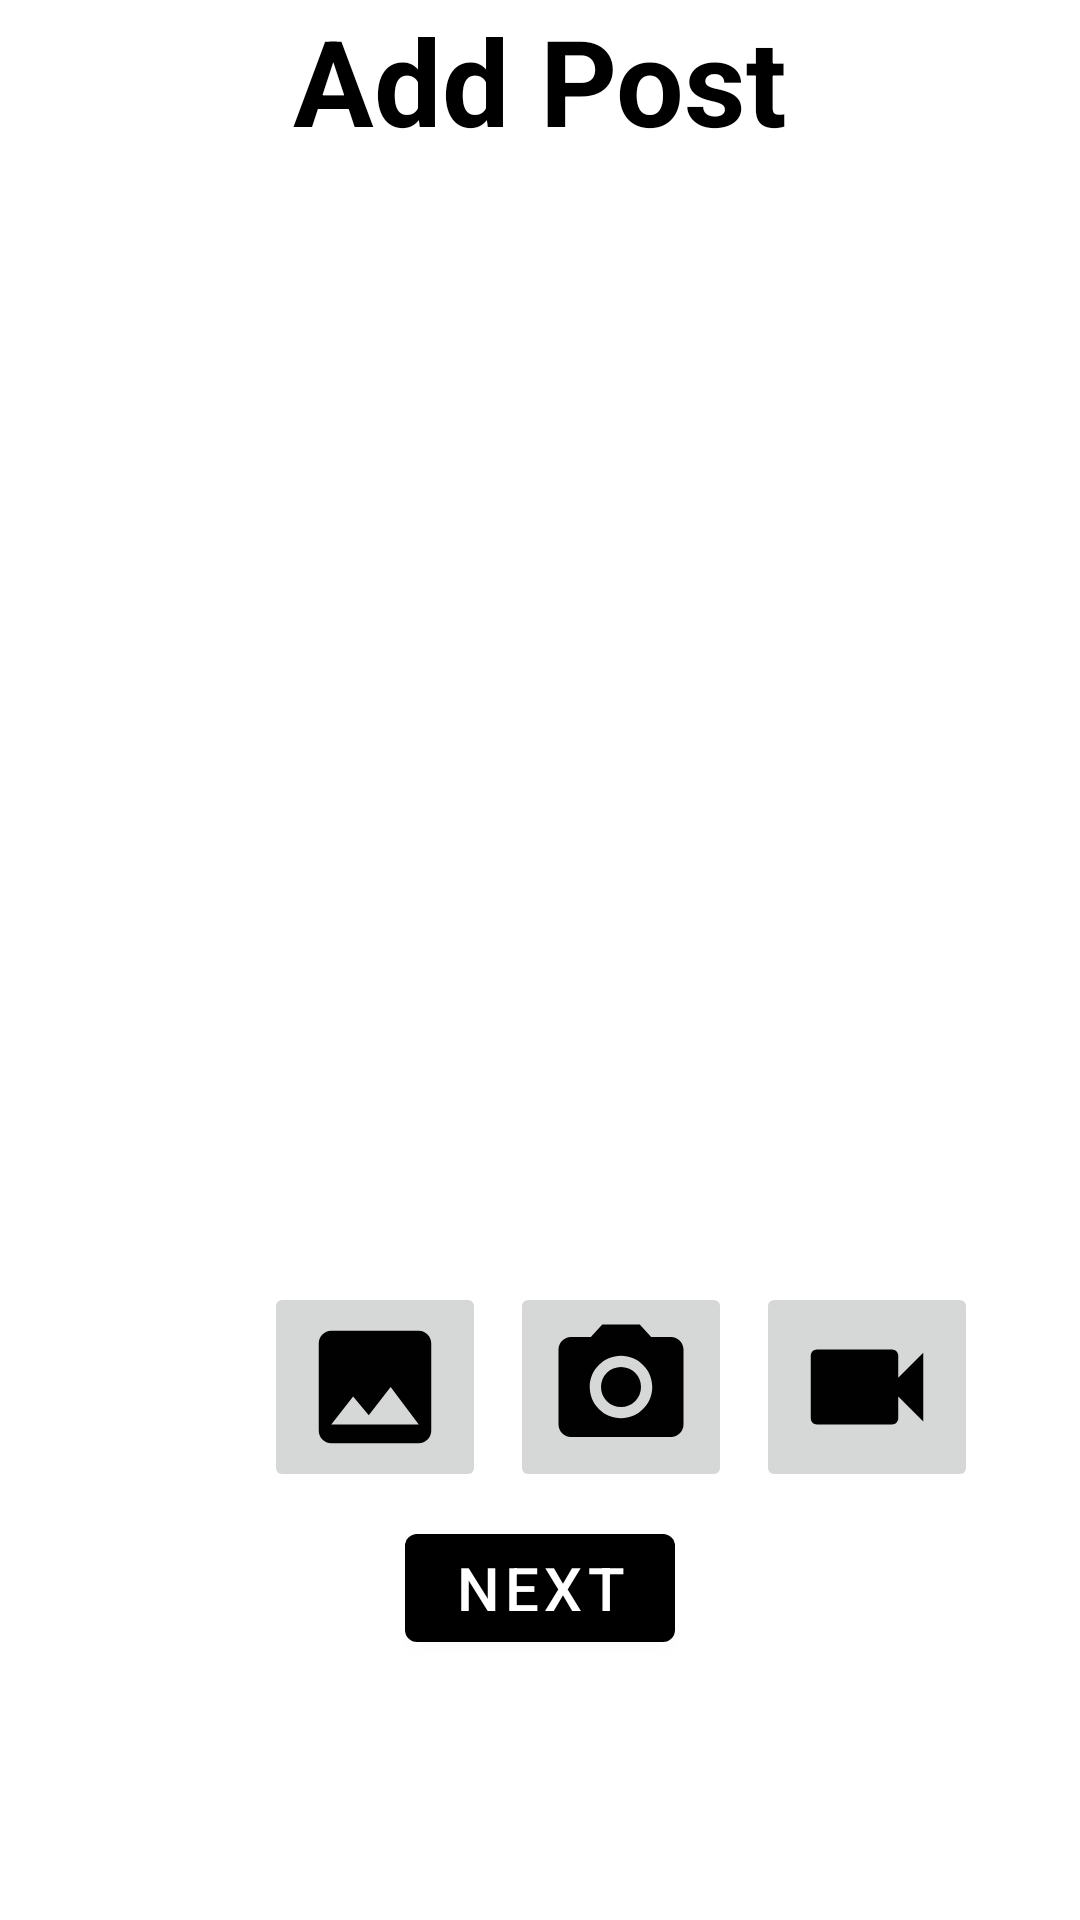

Point at icon controls on the screen. Image size 1080px×1920px, points as (x,y).
camera: (621,1387)
videocam: (867,1387)
